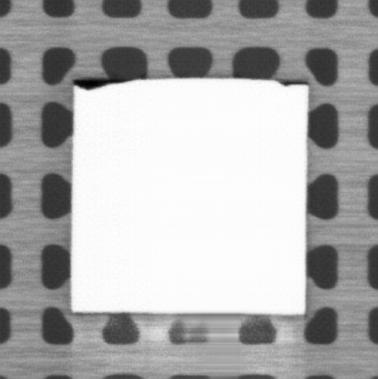DIE_BROKEN: (71, 76, 130, 90), (272, 77, 309, 88)
